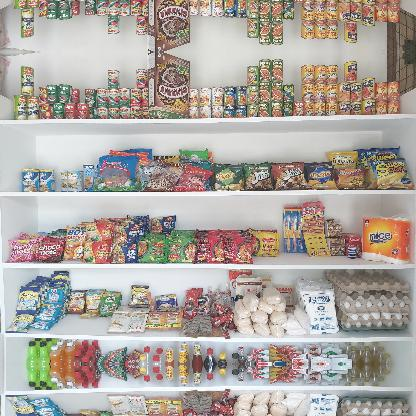Koko-Krunch: (148, 51, 190, 118), (148, 0, 191, 53)
